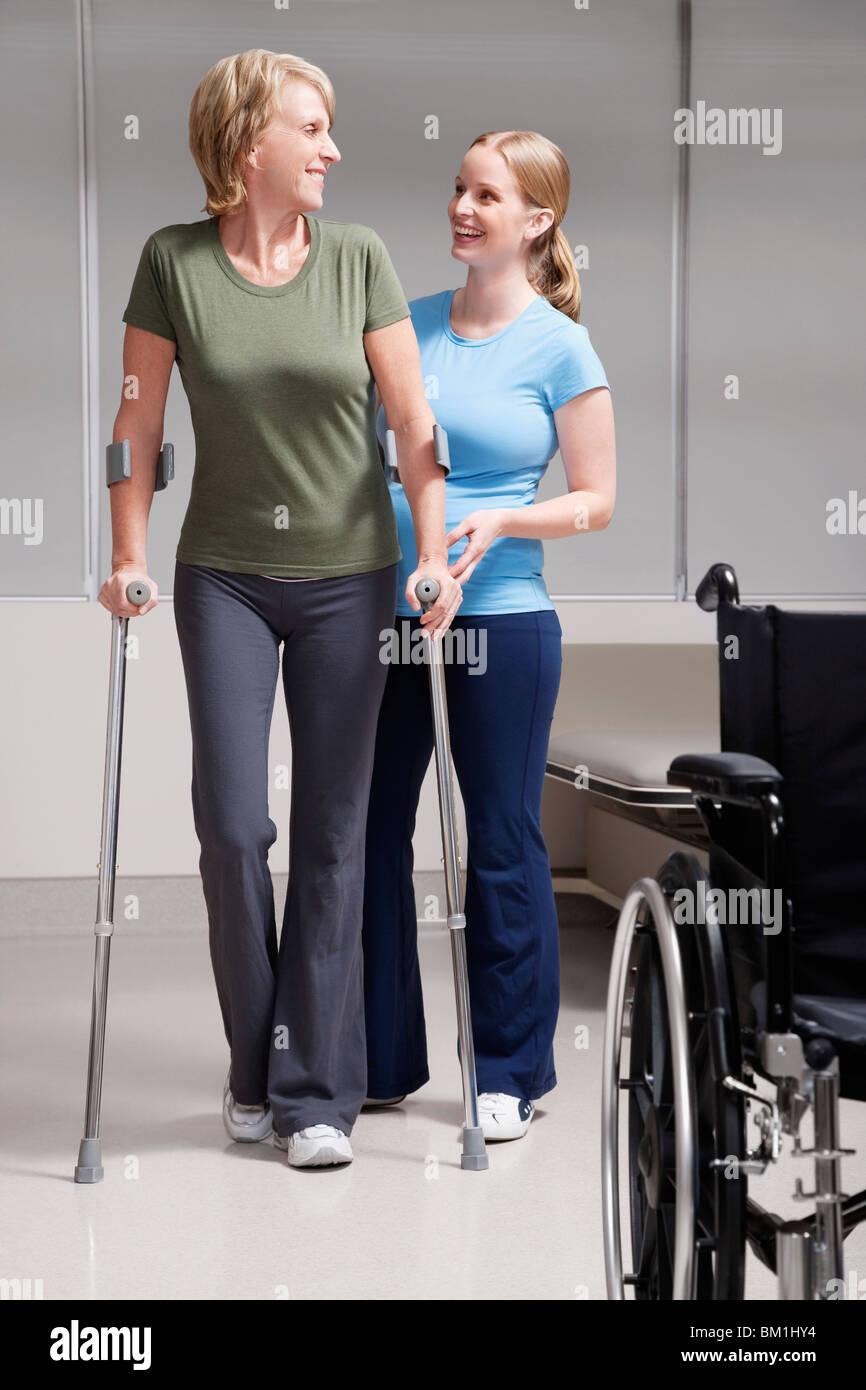crutches: (74, 44, 493, 1184)
